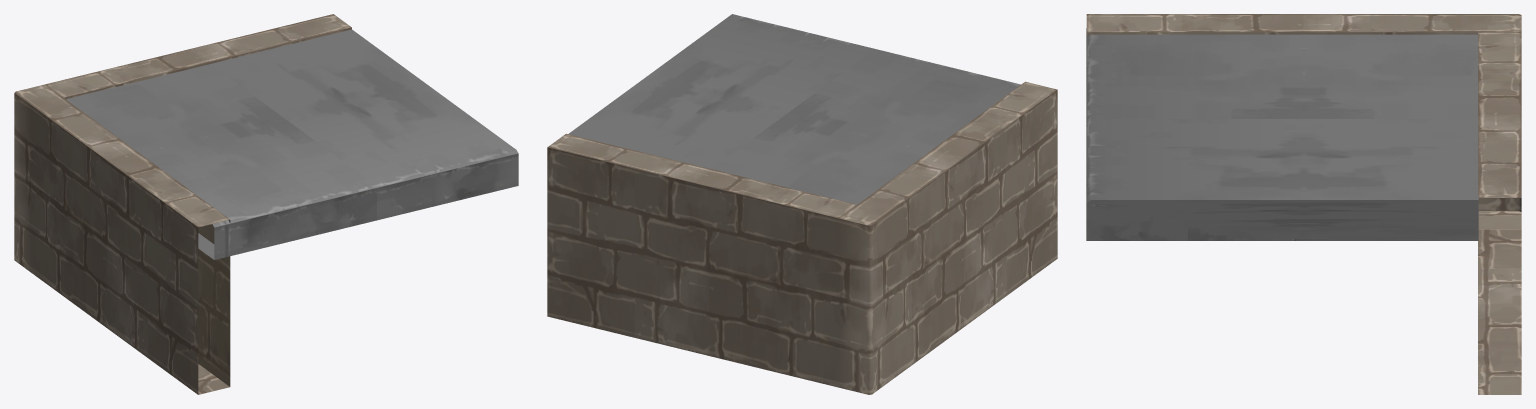
The model's file is Stairs_Exterior_Platform45Clean.glb.
3 views of the same model, side by side, from view 1: azimuth 30°, elevation 25°; view 2: azimuth 150°, elevation 25°; view 3: azimuth 270°, elevation 25° (orthographic). The views are drawn at different scales.
Parts seen in each view (by area): view 1: Stairs_Exterior_Platform45Clean; view 2: Stairs_Exterior_Platform45Clean; view 3: Stairs_Exterior_Platform45Clean.
Boxes of the visible parts, box(x1,y1,x2,y2) form: Stairs_Exterior_Platform45Clean: box(14, 14, 518, 394); Stairs_Exterior_Platform45Clean: box(547, 14, 1057, 394); Stairs_Exterior_Platform45Clean: box(1086, 14, 1521, 394).
Bounding box in the file's own units: 2 × 0.9999 × 2.
Materials: 2 (2 with a texture image).
